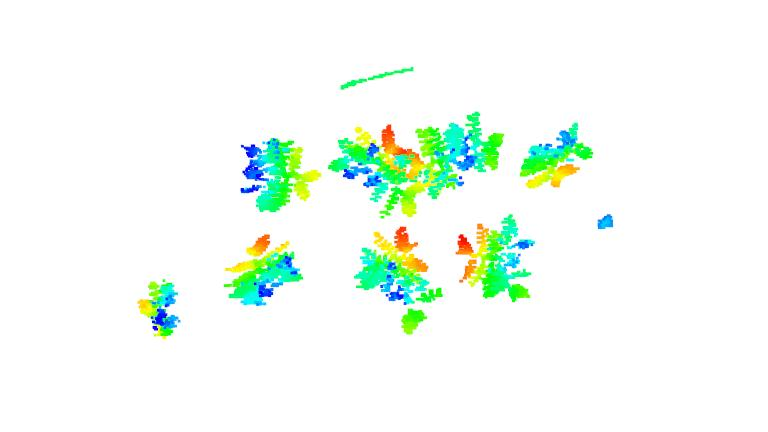chickpea: (327, 124, 445, 219), (356, 225, 440, 335), (450, 214, 536, 304), (222, 232, 307, 312), (236, 134, 317, 216), (414, 113, 506, 175), (520, 120, 595, 188), (135, 278, 187, 340)
